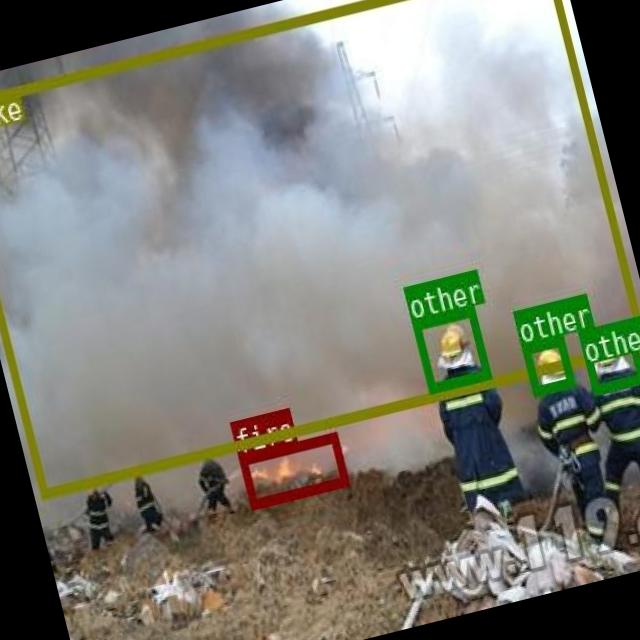fire: (237, 430, 348, 508)
smoke: (0, 0, 640, 498)
